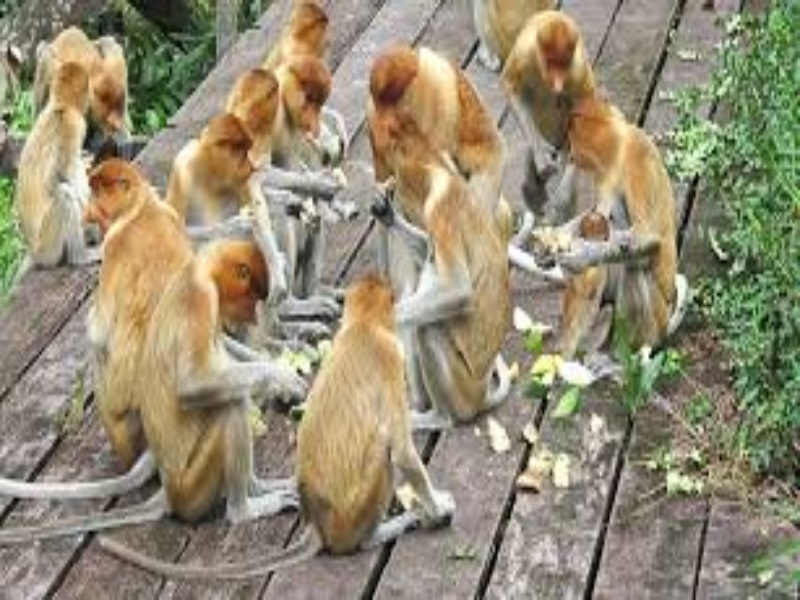monkey: (23, 16, 709, 579)
